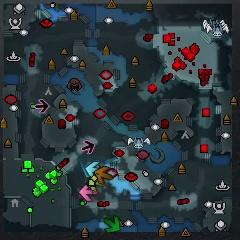x1: (79, 185, 98, 200)
x1Clone: (36, 99, 49, 113), (81, 140, 95, 153)
x3: (85, 161, 99, 176)
x4: (103, 216, 120, 232)
x5: (95, 167, 112, 184)
